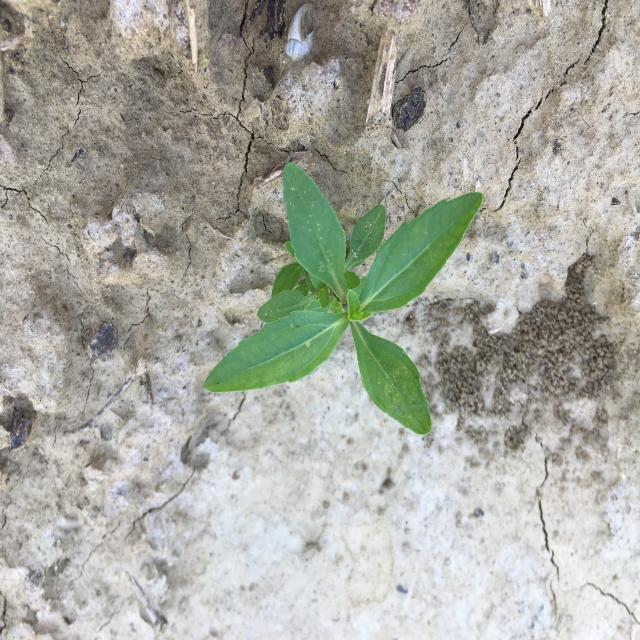Eclipta: (204, 162, 483, 436)
